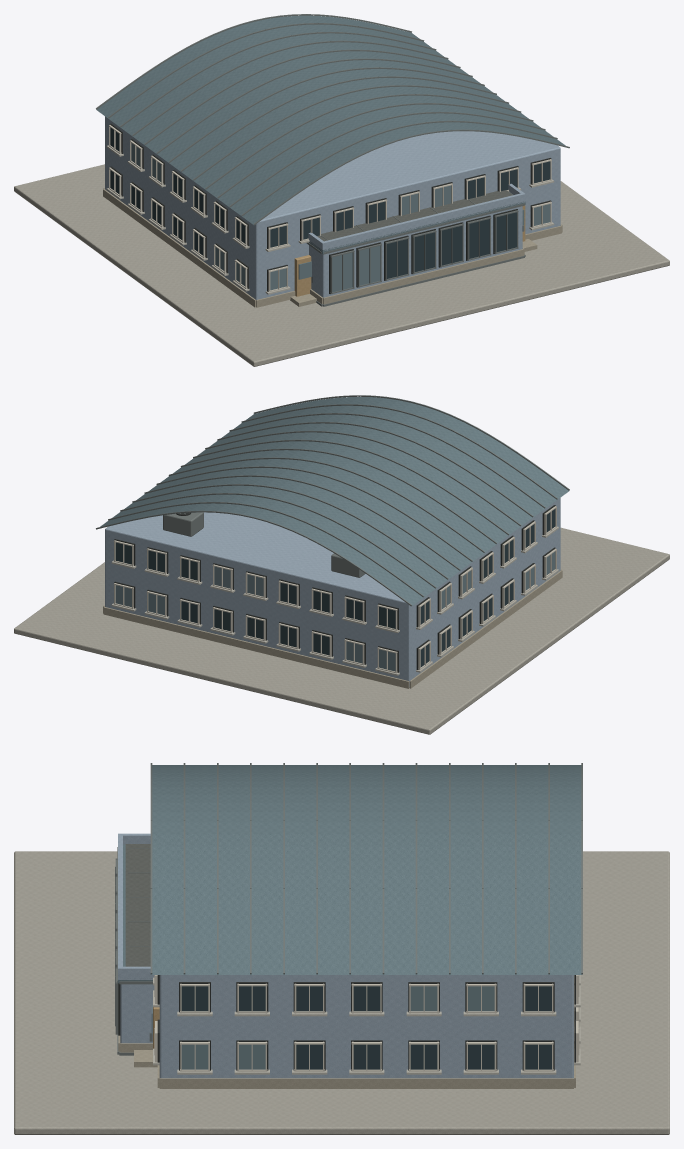
File: EXP_ARENA.glb
The picture shows the model from 3 angles, top to bottom: view 1: azimuth 30°, elevation 25°; view 2: azimuth 150°, elevation 25°; view 3: azimuth 270°, elevation 25°; orthographic projection. The views are drawn at different scales.
Parts seen in each view (by area): view 1: EXP_ARENA_Visual; view 2: EXP_ARENA_Visual; view 3: EXP_ARENA_Visual.
Boxes of the visible parts, left/top/right/bottom form: EXP_ARENA_Visual: left=14, top=14, right=669, bottom=366; EXP_ARENA_Visual: left=14, top=395, right=669, bottom=734; EXP_ARENA_Visual: left=14, top=763, right=669, bottom=1134.
Size of what is drawn, in the model's own units: 7.92 by 2.61 by 7.92.
Materials: 12 (7 with a texture image).
